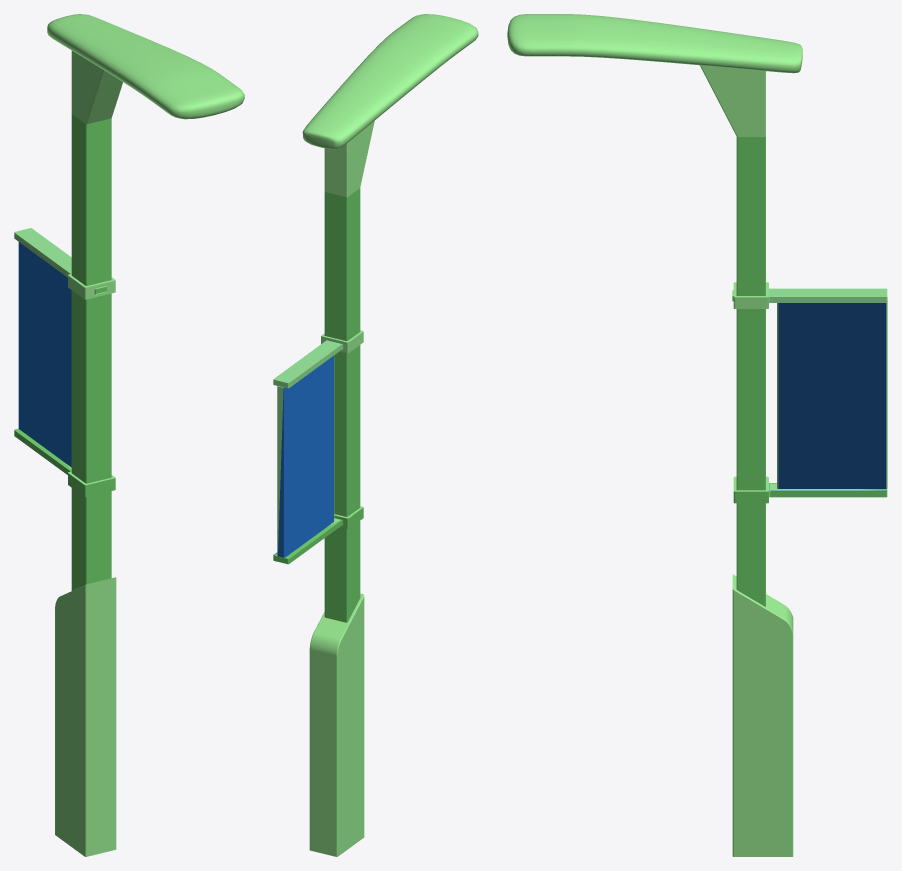
File: elight.obj
The picture shows the model from 3 angles, left to right: view 1: azimuth 30°, elevation 25°; view 2: azimuth 150°, elevation 25°; view 3: azimuth 270°, elevation 25°; orthographic projection. The views are drawn at different scales.
Size of the model in its own units: 0.5632 by 6.13 by 2.57.
